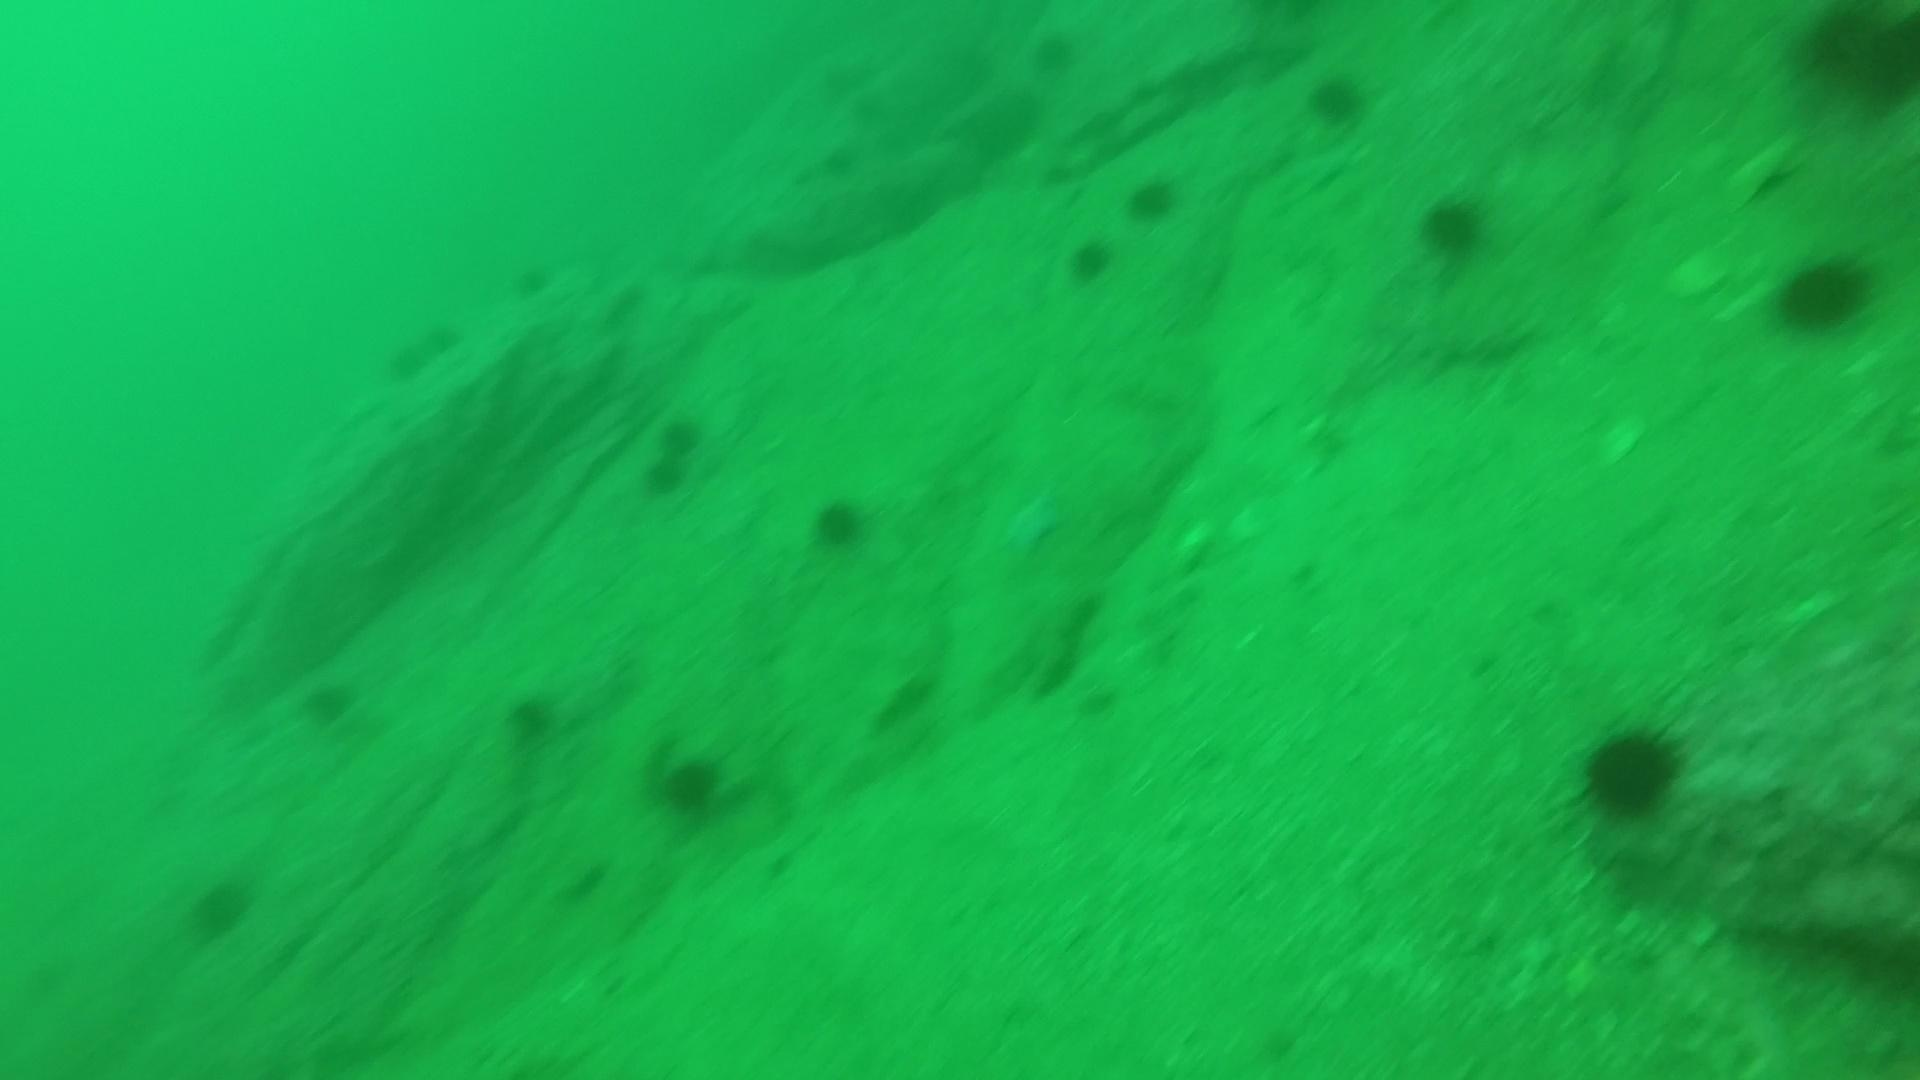echinus: (1789, 1, 1917, 115), (1575, 719, 1688, 824), (1768, 248, 1878, 338), (645, 738, 735, 822), (1415, 189, 1493, 262), (183, 869, 258, 942), (1302, 67, 1373, 131), (806, 492, 874, 553), (500, 687, 563, 748), (297, 675, 361, 731), (1122, 170, 1183, 225), (655, 407, 709, 458), (1064, 235, 1116, 286), (637, 450, 691, 498), (419, 318, 473, 367), (378, 334, 433, 382), (489, 257, 543, 306), (808, 141, 862, 190), (1033, 20, 1087, 69)
starfish: (996, 485, 1065, 560)
